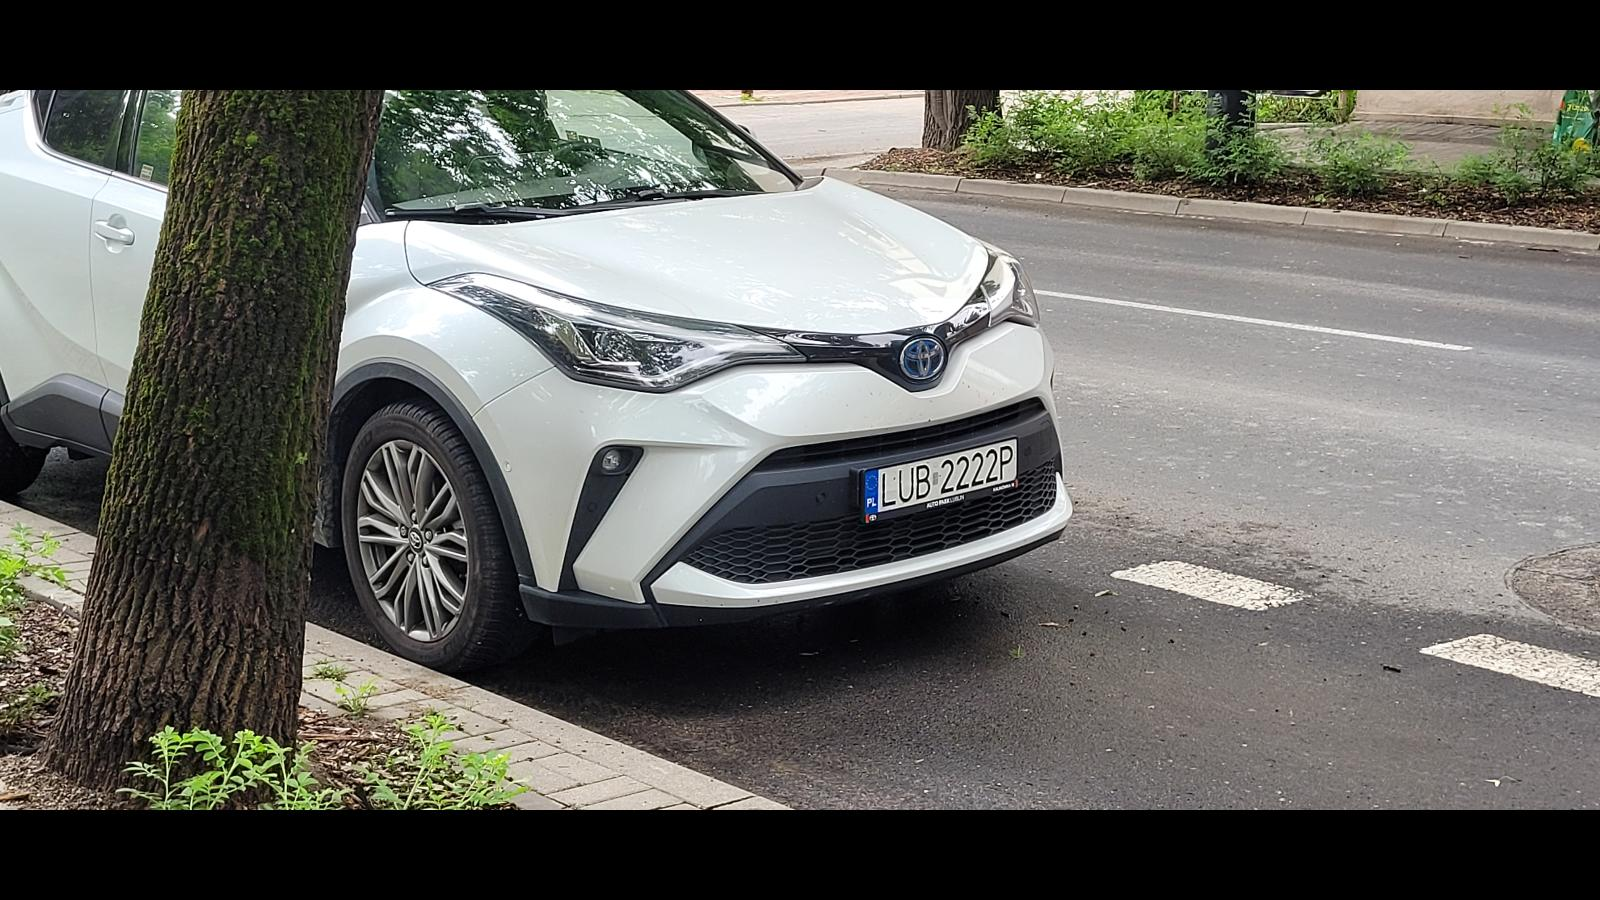plates: (862, 437, 1020, 526)
